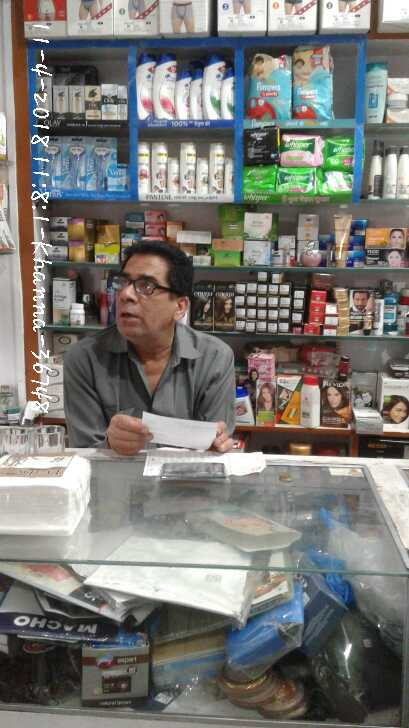venus: (63, 137, 86, 189), (88, 138, 107, 193), (40, 135, 59, 189), (108, 163, 128, 193)
